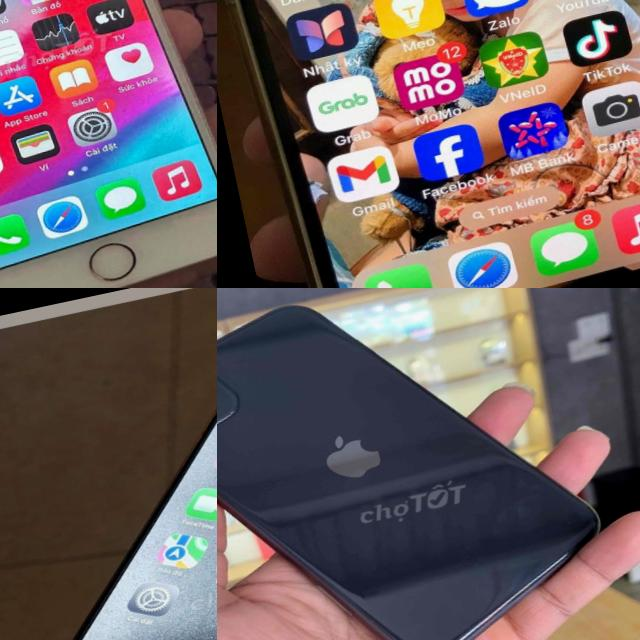gen_11: (217, 288, 628, 640)
gen_12_13: (217, 0, 640, 288)
gen_15: (0, 293, 217, 640)
gen_7_8: (0, 0, 217, 288)
